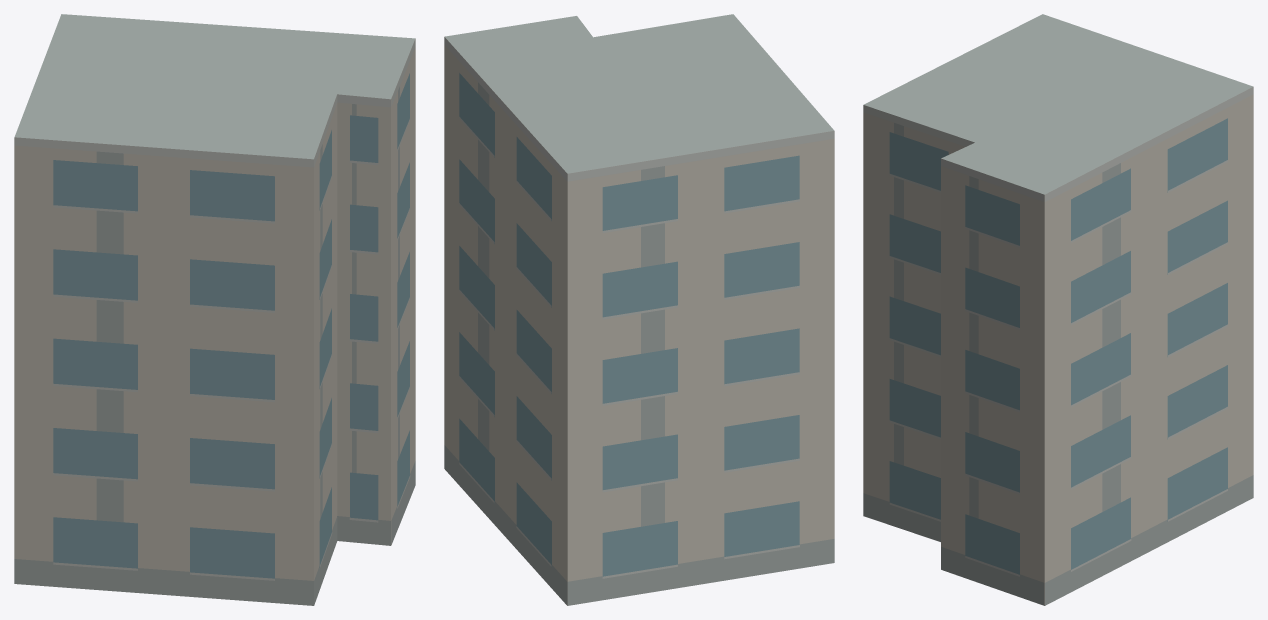
The model's file is survey-upis-32569936.glb.
3 renders of one model, left to right at view 1: azimuth 30°, elevation 25°; view 2: azimuth 150°, elevation 25°; view 3: azimuth 270°, elevation 25°, orthographic. The views are drawn at different scales.
Parts seen in each view (by area): view 1: survey-upis-32569936.tmp; view 2: survey-upis-32569936.tmp; view 3: survey-upis-32569936.tmp.
Part boxes in pixels (bbox=[...]): survey-upis-32569936.tmp: bbox=[14, 14, 415, 605]; survey-upis-32569936.tmp: bbox=[444, 14, 834, 605]; survey-upis-32569936.tmp: bbox=[863, 14, 1253, 605].
Bounding box in the file's own units: 12.5 × 13.25 × 11.41.
